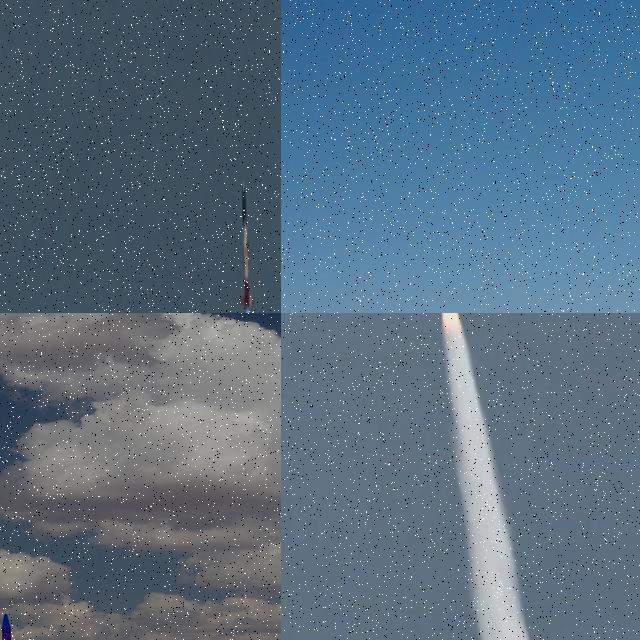Rocket: (239, 180, 254, 313), (0, 612, 22, 640)
